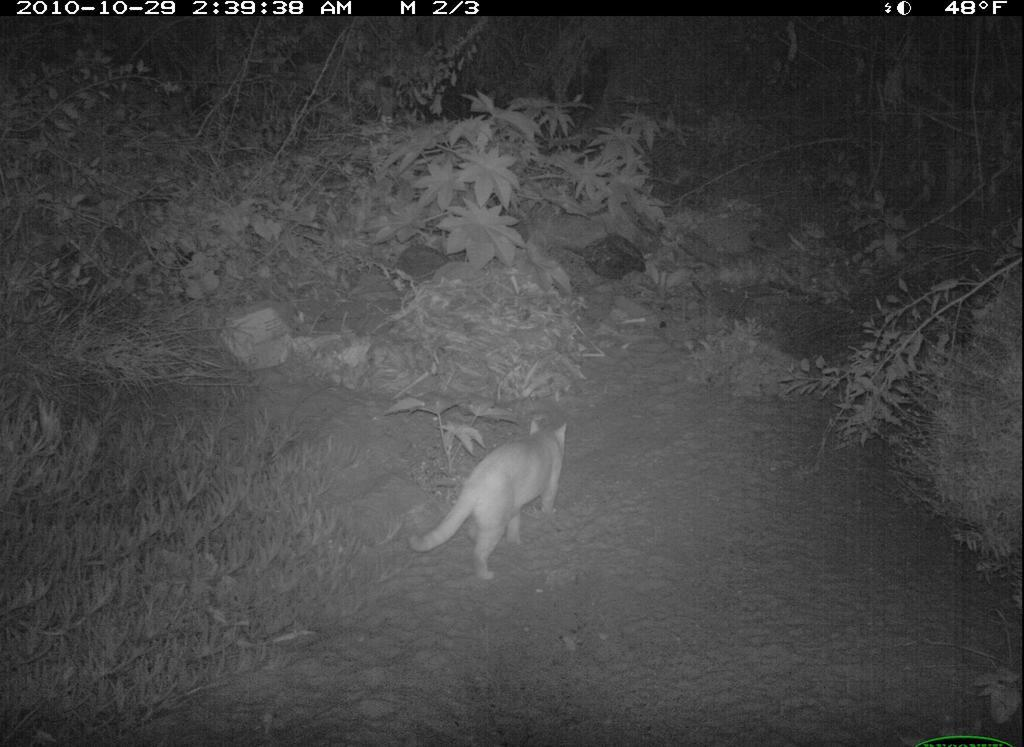cat: (402, 415, 582, 587)
